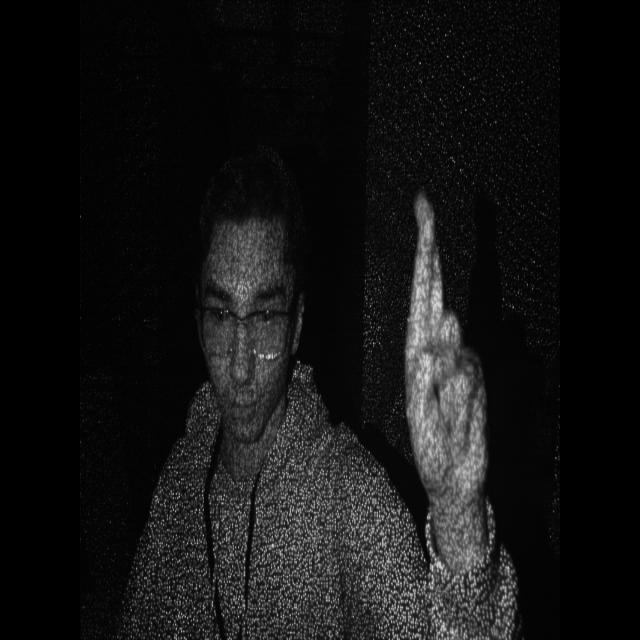R: (400, 185, 507, 480)
